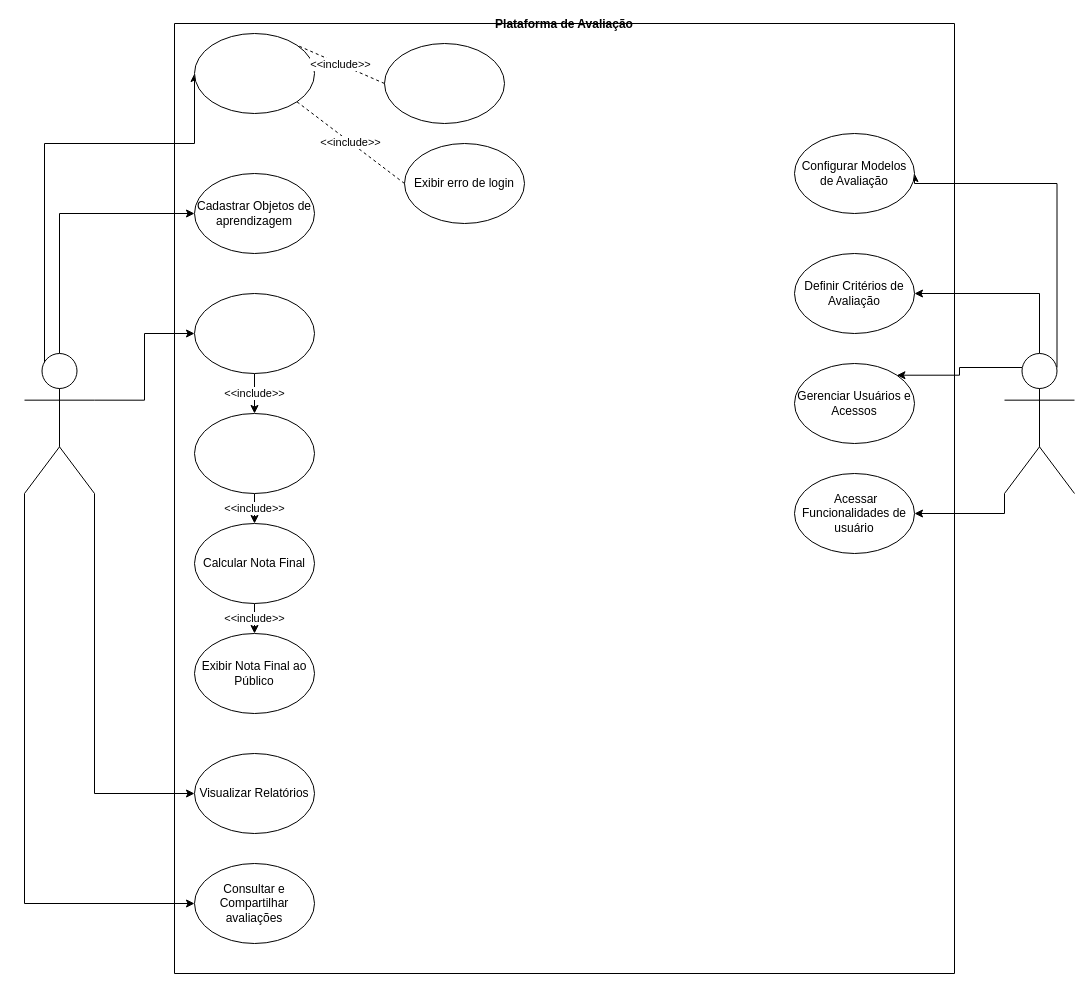
Some shapes in this 1092 by 991 pixel diagram are drawn without their labels. The shapes that lost their labels are listed below. From the top down, each one's box as (x1, y1, x2, y2) in pixels, then its label:
(194, 32, 314, 114): Fazer login
(384, 42, 504, 124): Verificar senha
(194, 292, 314, 374): Avaliar Objetos de aprendizagem
(24, 352, 94, 494): Cliente
(1004, 352, 1074, 494): ADM
(194, 412, 314, 494): Gerar Relatórios de Avaliação
